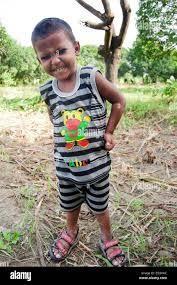Human: (28, 14, 145, 268)
